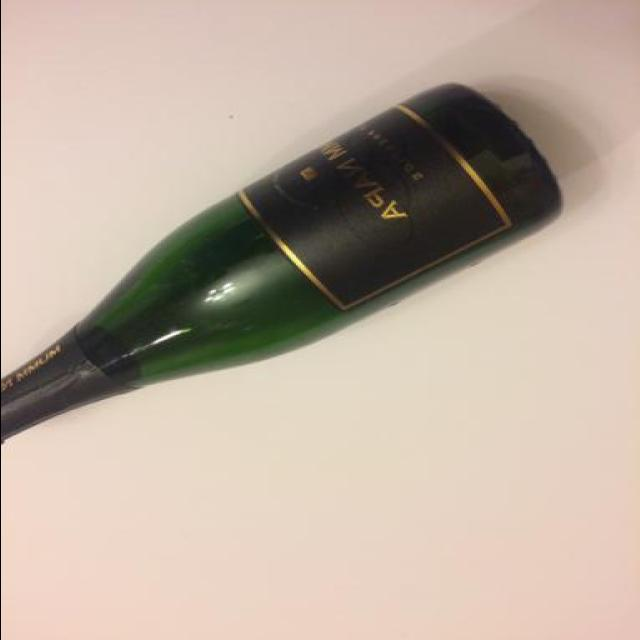glass: (1, 48, 570, 467)
